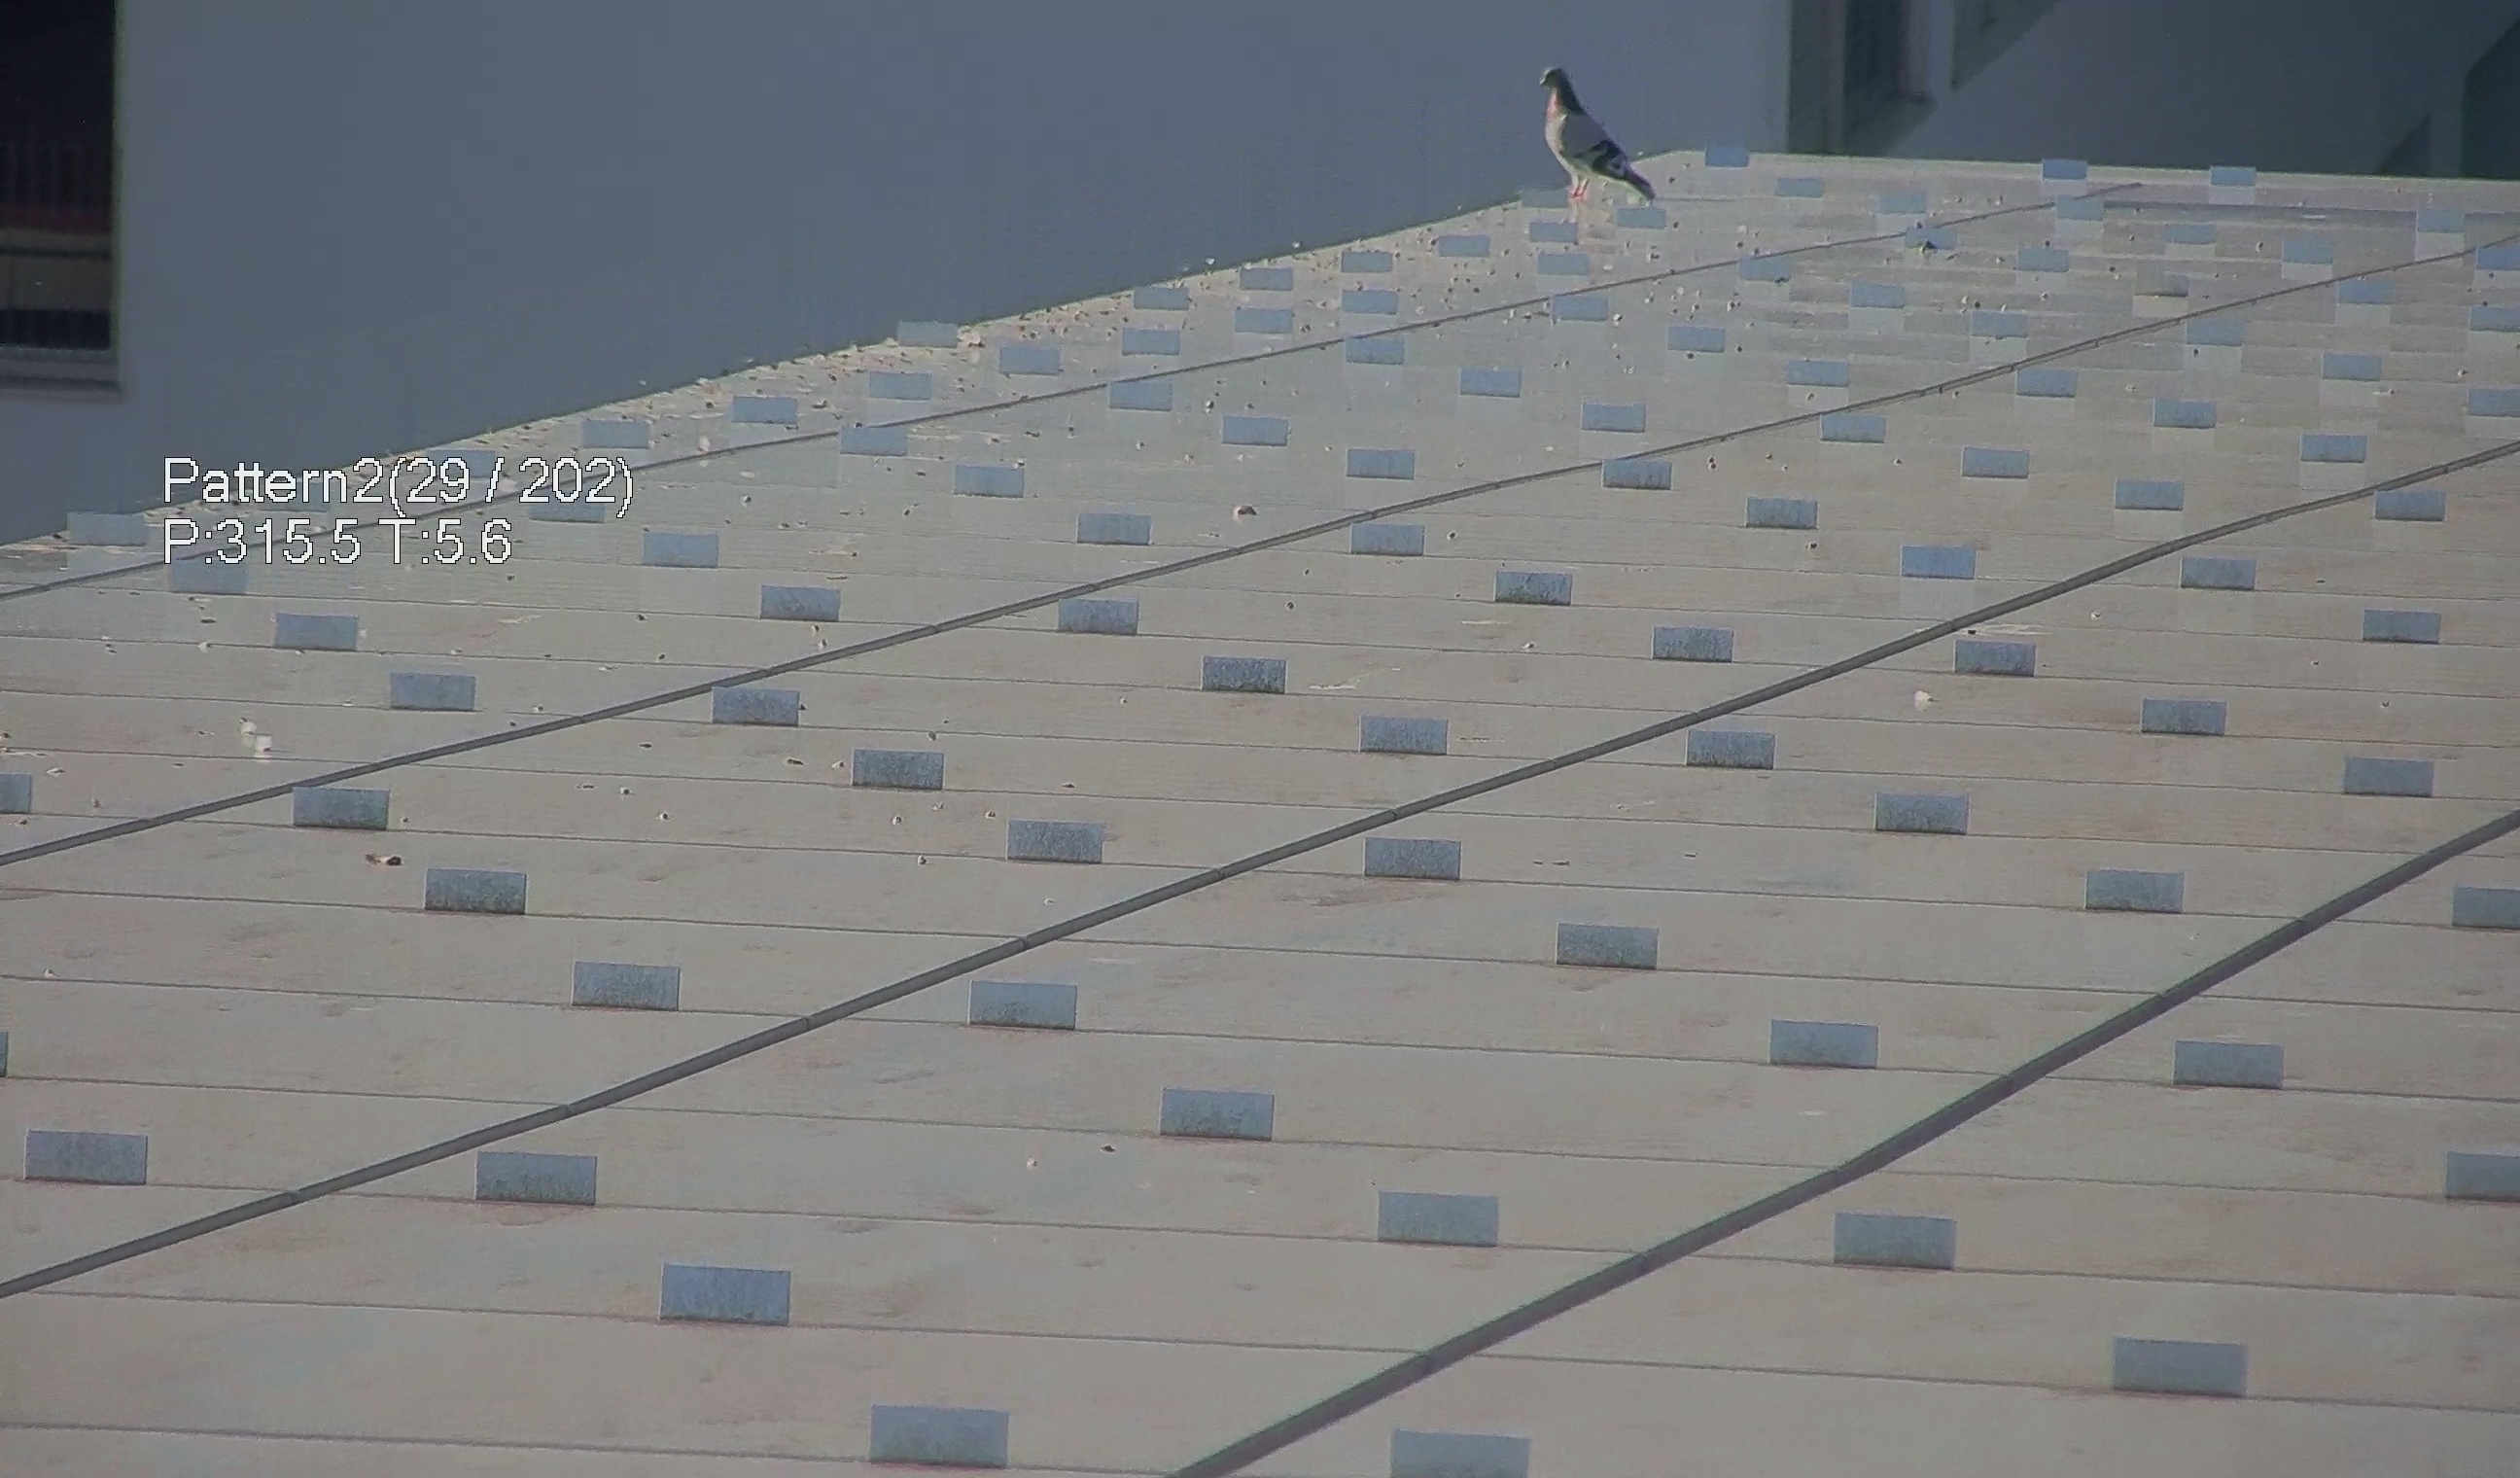Pigeon: (1533, 58, 1667, 211)
